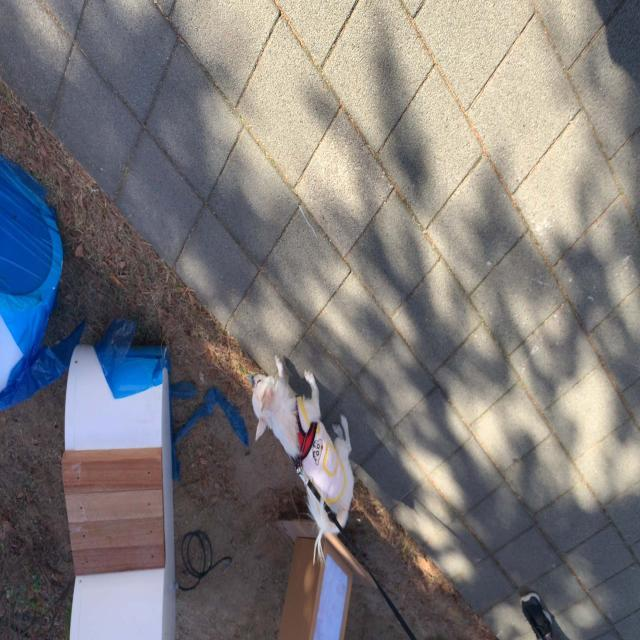Dog: (286, 74, 389, 286)
